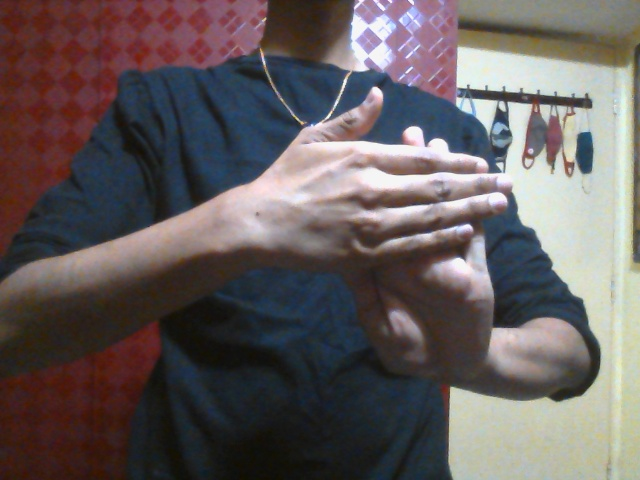H: (259, 86, 516, 383)
